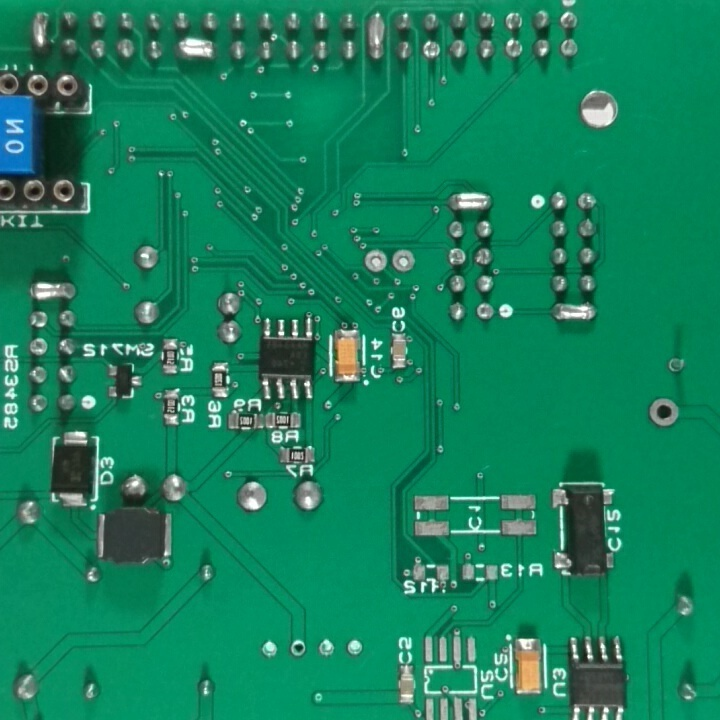F: (642, 392, 682, 429), (340, 629, 366, 660), (391, 246, 416, 278), (364, 247, 389, 278), (502, 8, 527, 35), (316, 632, 340, 660), (446, 244, 469, 271), (576, 188, 600, 213), (28, 333, 52, 358), (421, 38, 444, 64), (257, 637, 281, 661), (664, 356, 691, 377), (556, 10, 579, 32), (287, 637, 309, 660), (477, 301, 496, 326)
P: (446, 189, 496, 218), (366, 9, 390, 69), (173, 36, 219, 67), (27, 281, 80, 304), (550, 301, 599, 323), (30, 9, 50, 61)
